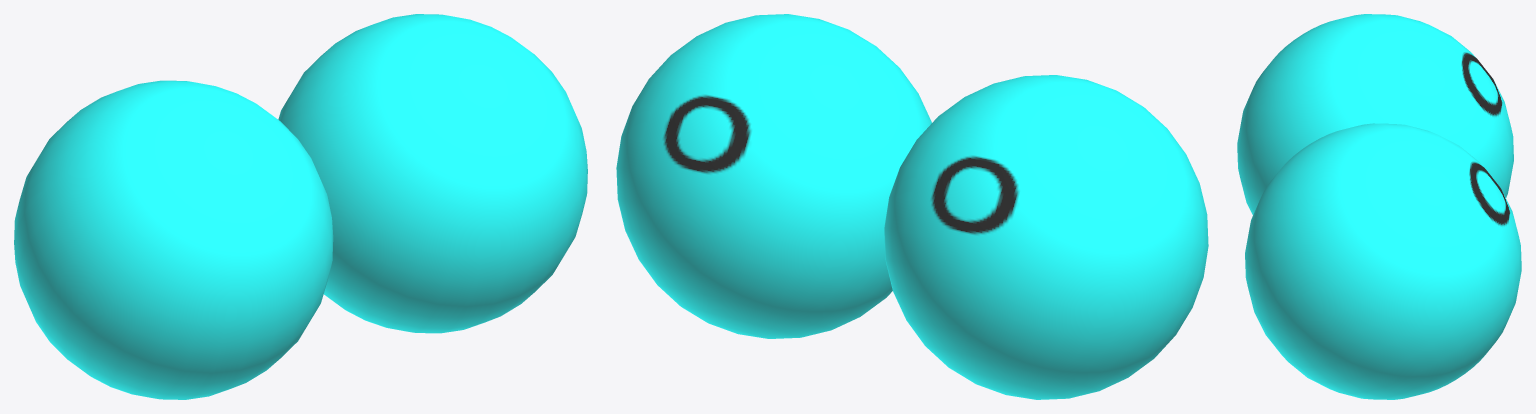
3 renders of one model, left to right at view 1: azimuth 30°, elevation 25°; view 2: azimuth 150°, elevation 25°; view 3: azimuth 270°, elevation 25°, orthographic. The views are drawn at different scales.
Visible parts, largest first — view 1: 球体.001, 球体; view 2: 球体.001, 球体; view 3: 球体, 球体.001.
Part boxes in pixels (x1,y1,x2,y2): 球体.001: (14,80,333,399); 球体: (278,14,587,333); 球体.001: (884,75,1208,399); 球体: (616,14,931,338); 球体: (1245,123,1521,399); 球体.001: (1237,14,1513,214).
Size of the model in its own units: 1.4 by 0.7205 by 0.7408.
Materials: 2 (2 with a texture image).
